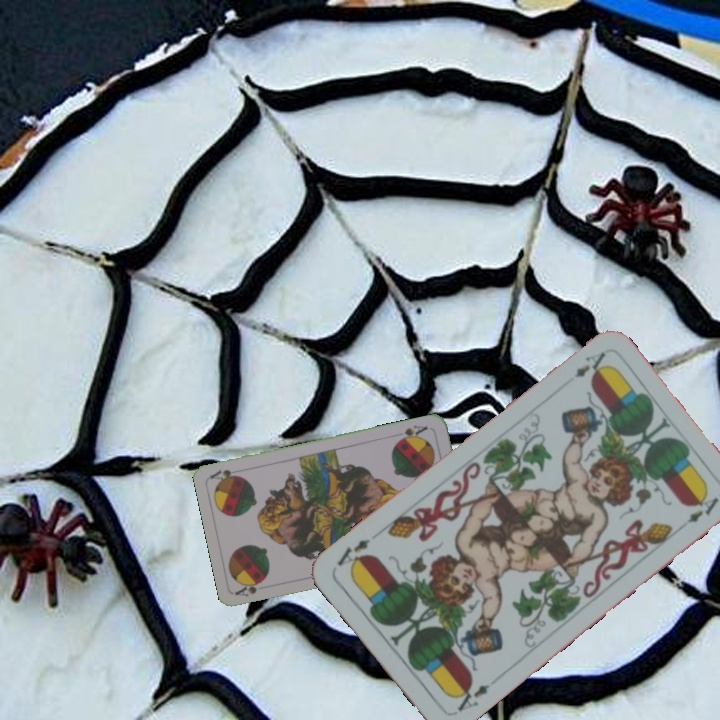EA: (449, 677, 493, 714), (570, 347, 608, 381)
SA: (393, 421, 430, 445), (232, 576, 267, 599)
